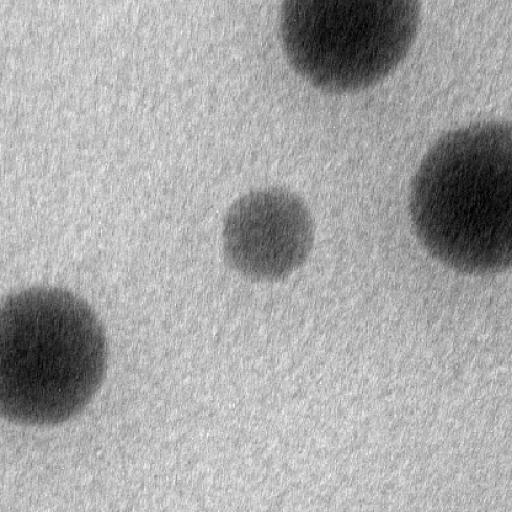Nanoparticles: (0, 282, 116, 430), (409, 116, 511, 274), (278, 0, 428, 101), (220, 184, 319, 286)
